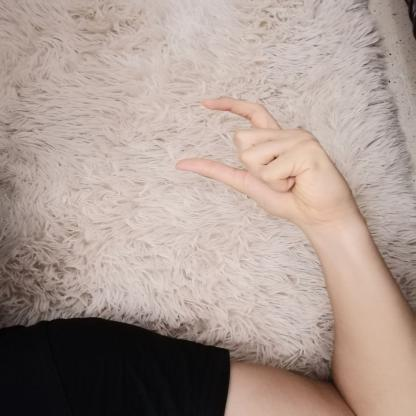DELL: (167, 87, 363, 232)
